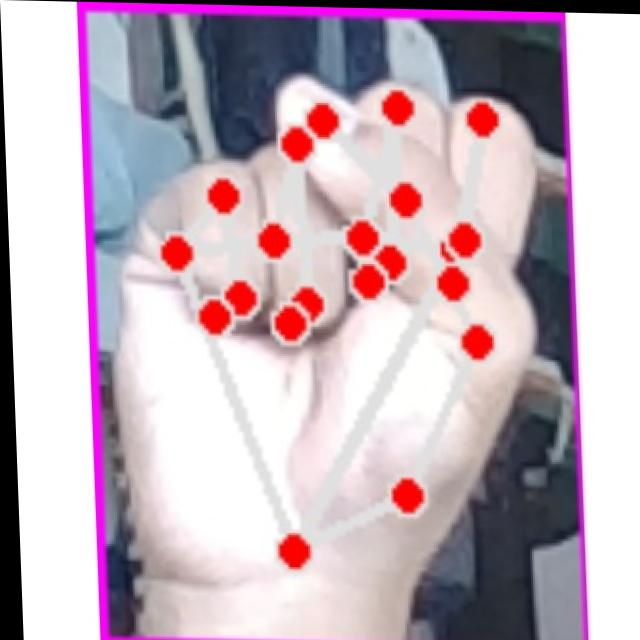S: (102, 47, 541, 583)
